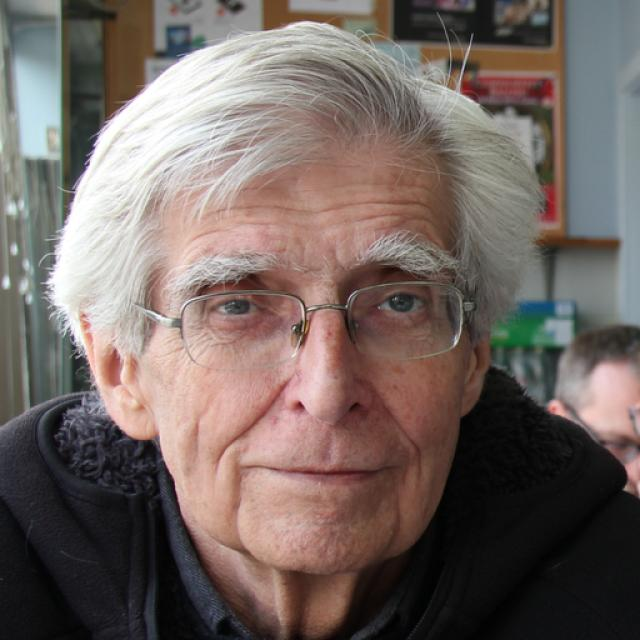Pigmentation: (313, 307, 348, 378)
Wrinkle: (211, 368, 295, 476), (201, 191, 435, 219), (371, 384, 431, 490), (348, 206, 437, 233), (172, 218, 232, 250), (238, 215, 281, 232)
